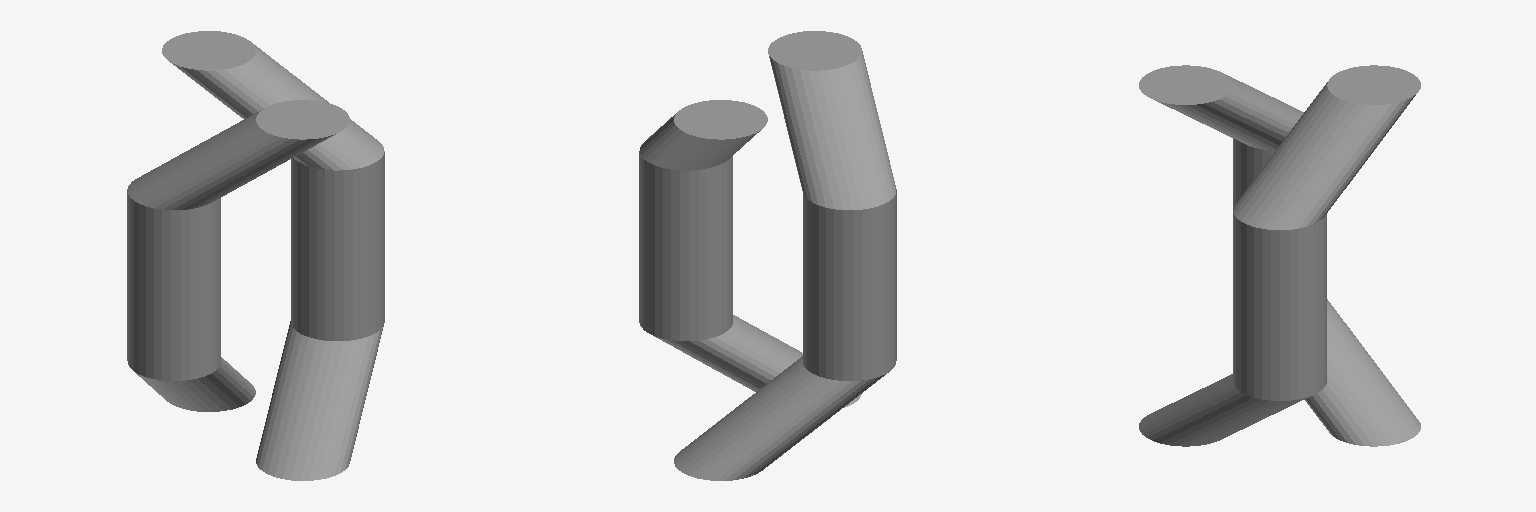
The model's file is twistA.obj.
3 renders of one model, left to right at view 1: azimuth 30°, elevation 25°; view 2: azimuth 150°, elevation 25°; view 3: azimuth 270°, elevation 25°, orthographic.
Visible parts, largest first — view 1: Shape_IndexedFaceSet.001_Shape_IndexedFaceSet.007, Shape_IndexedFaceSet.003_Shape_IndexedFaceSet.009, Shape_IndexedFaceSet_Shape_IndexedFaceSet.006, Shape_IndexedFaceSet.002_Shape_IndexedFaceSet.008; view 2: Shape_IndexedFaceSet.003_Shape_IndexedFaceSet.009, Shape_IndexedFaceSet.002_Shape_IndexedFaceSet.008, Shape_IndexedFaceSet_Shape_IndexedFaceSet.006, Shape_IndexedFaceSet.001_Shape_IndexedFaceSet.007; view 3: Shape_IndexedFaceSet_Shape_IndexedFaceSet.006, Shape_IndexedFaceSet.001_Shape_IndexedFaceSet.007, Shape_IndexedFaceSet.003_Shape_IndexedFaceSet.009, Shape_IndexedFaceSet.002_Shape_IndexedFaceSet.008.
Boxes of the visible parts, x1=… form: Shape_IndexedFaceSet.001_Shape_IndexedFaceSet.007: x1=256, y1=238, x2=384, y2=480; Shape_IndexedFaceSet.003_Shape_IndexedFaceSet.009: x1=127, y1=100, x2=349, y2=295; Shape_IndexedFaceSet_Shape_IndexedFaceSet.006: x1=162, y1=31, x2=384, y2=255; Shape_IndexedFaceSet.002_Shape_IndexedFaceSet.008: x1=127, y1=276, x2=255, y2=411; Shape_IndexedFaceSet.003_Shape_IndexedFaceSet.009: x1=768, y1=31, x2=896, y2=295; Shape_IndexedFaceSet.002_Shape_IndexedFaceSet.008: x1=674, y1=276, x2=896, y2=480; Shape_IndexedFaceSet_Shape_IndexedFaceSet.006: x1=639, y1=100, x2=767, y2=255; Shape_IndexedFaceSet.001_Shape_IndexedFaceSet.007: x1=639, y1=238, x2=861, y2=407; Shape_IndexedFaceSet_Shape_IndexedFaceSet.006: x1=1233, y1=65, x2=1420, y2=315; Shape_IndexedFaceSet.001_Shape_IndexedFaceSet.007: x1=1139, y1=298, x2=1326, y2=446; Shape_IndexedFaceSet.003_Shape_IndexedFaceSet.009: x1=1139, y1=65, x2=1303, y2=207; Shape_IndexedFaceSet.002_Shape_IndexedFaceSet.008: x1=1305, y1=299, x2=1420, y2=446.
Size of the model in its own units: 60 by 80 by 60.